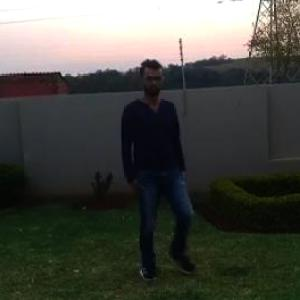follow: (109, 59, 182, 282)
